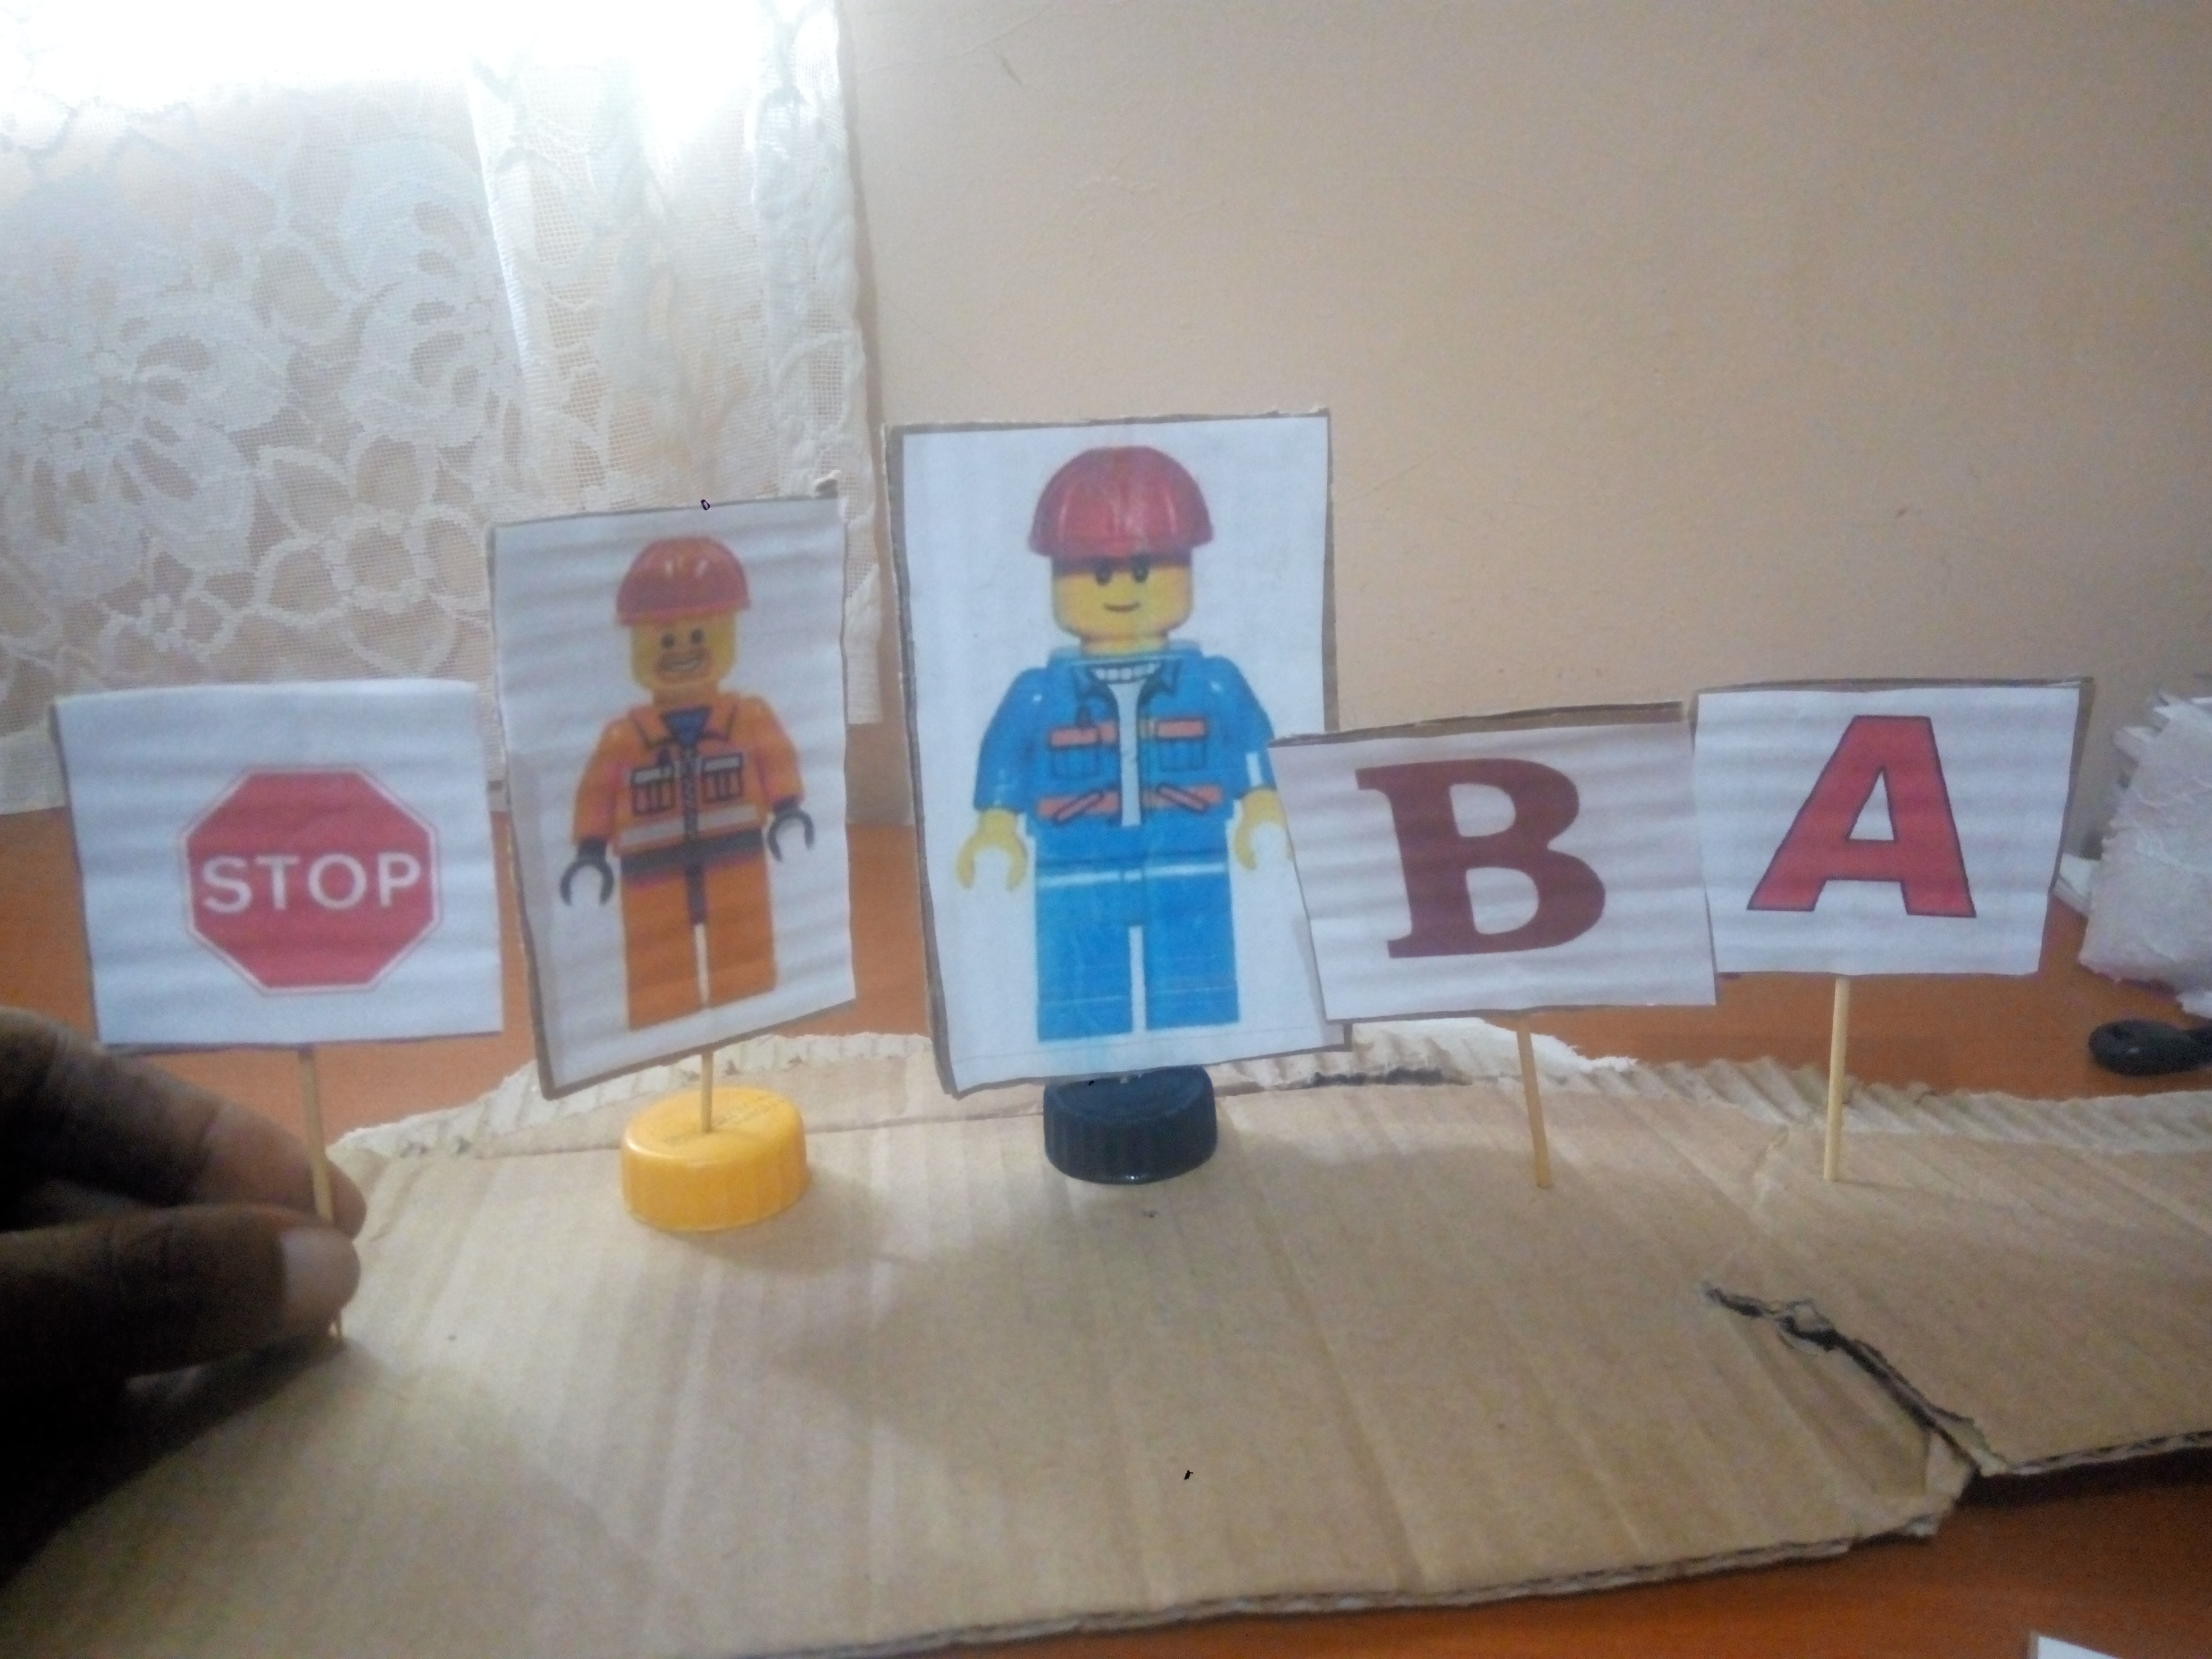pedestrian: (939, 434, 1286, 1044), (539, 530, 812, 1017)
stop: (128, 725, 470, 1009)
zone A: (1741, 692, 2027, 963)
zone B: (1334, 738, 1660, 1011)
